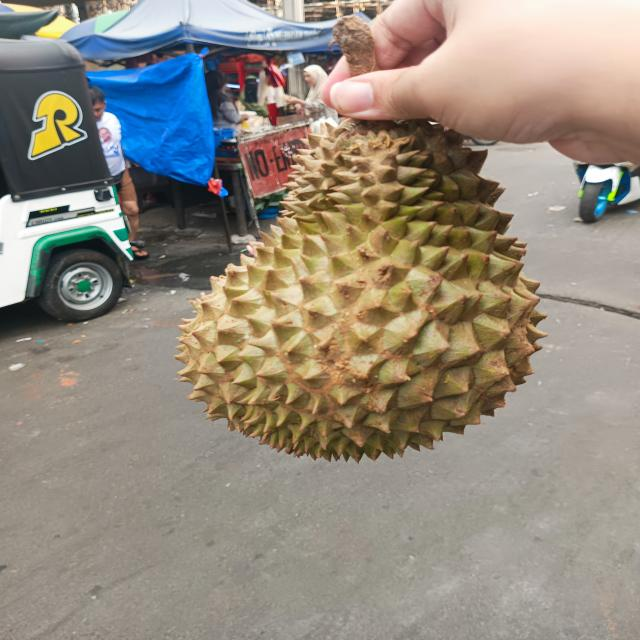mature: (171, 112, 544, 460)
